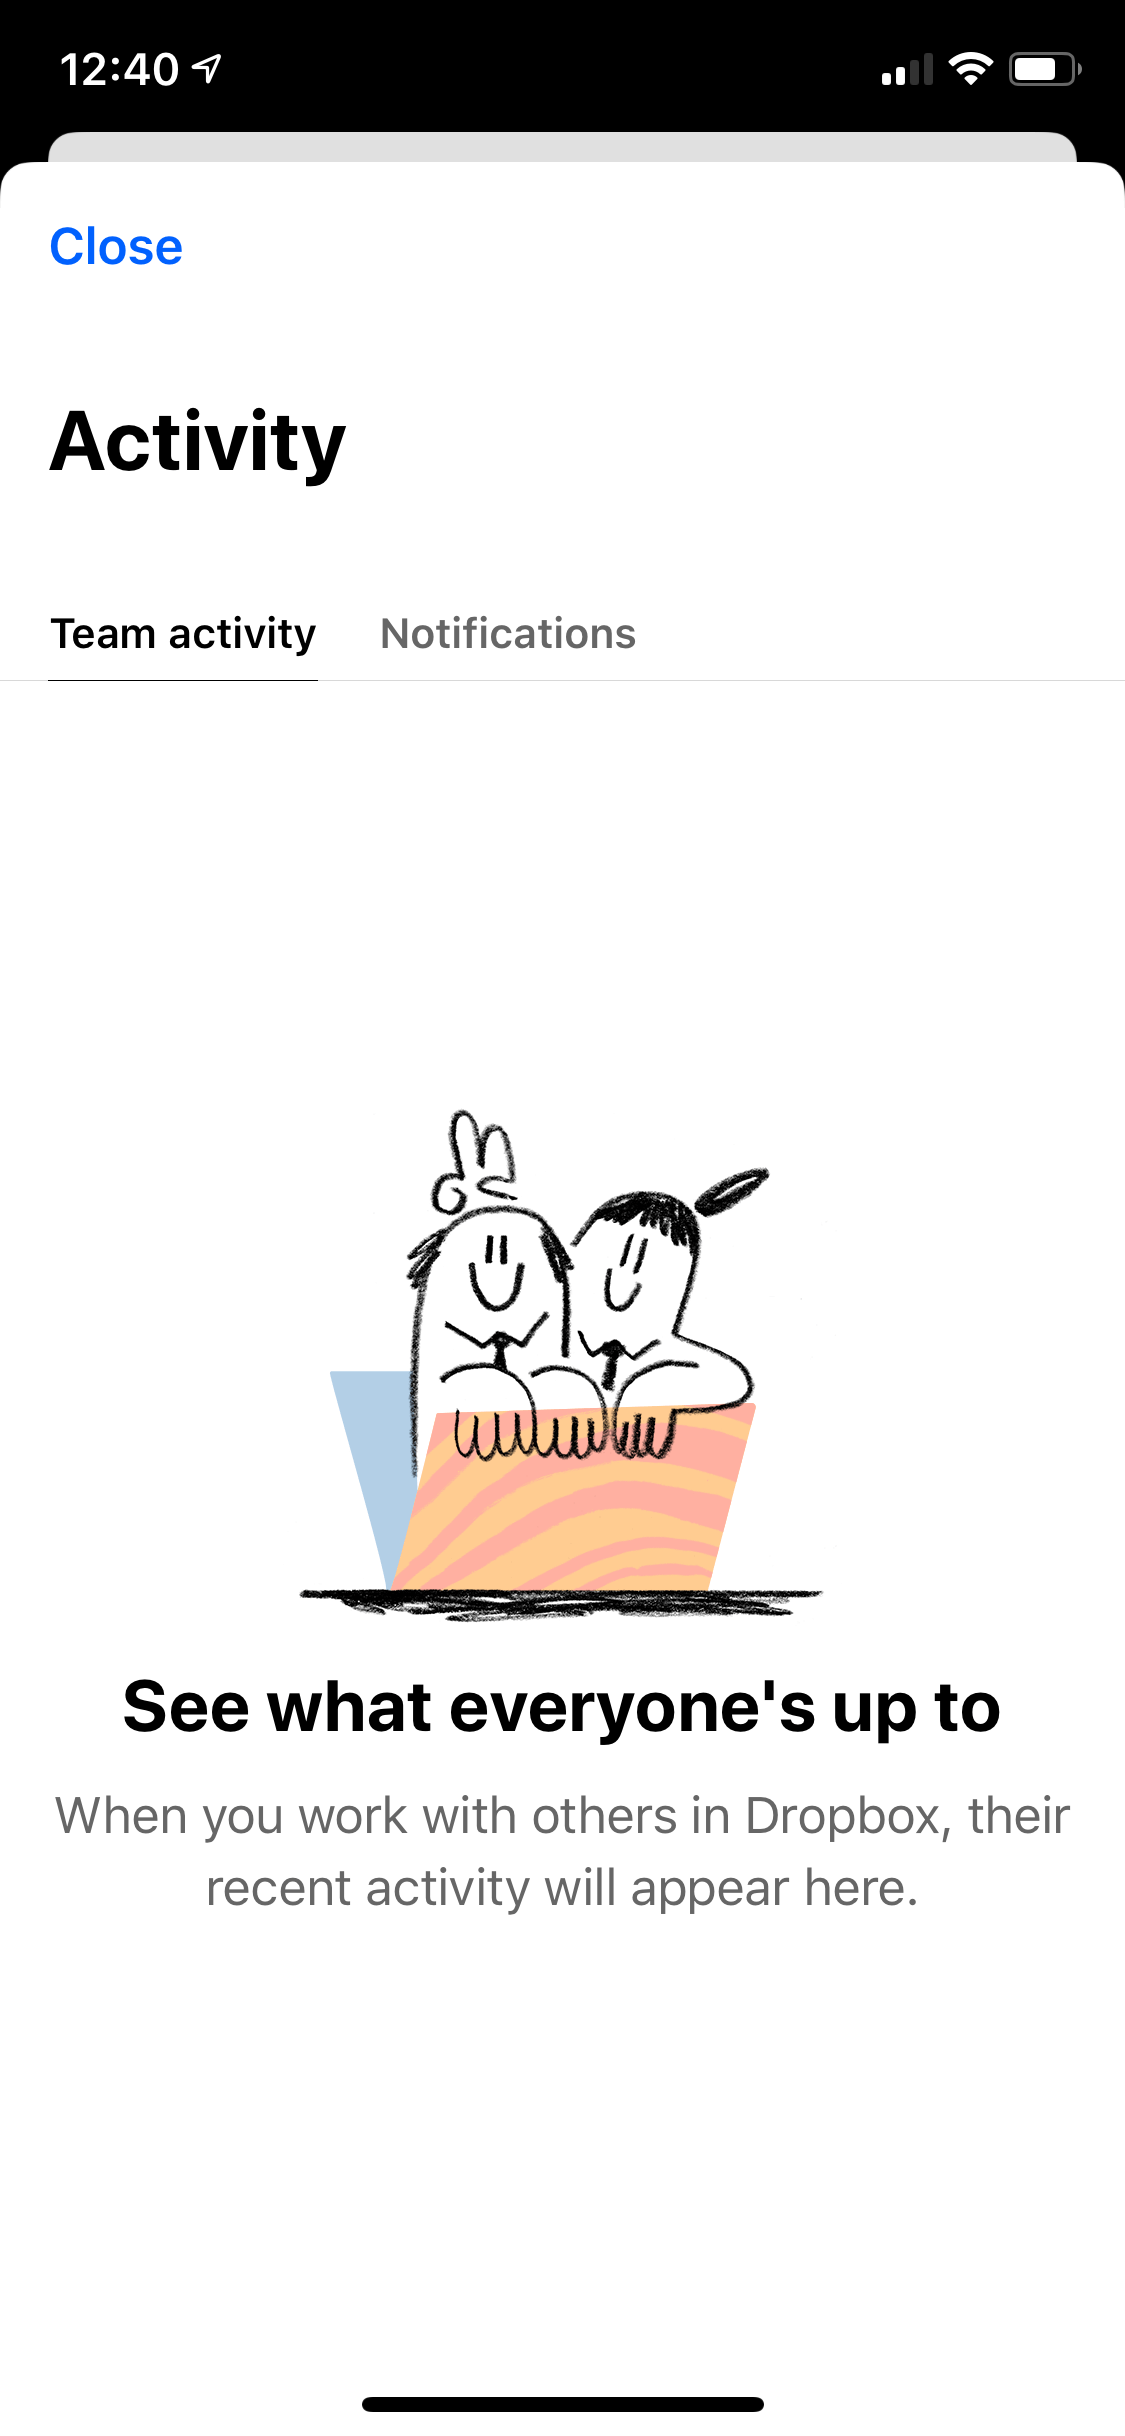Buttons: (26, 200, 214, 295)
